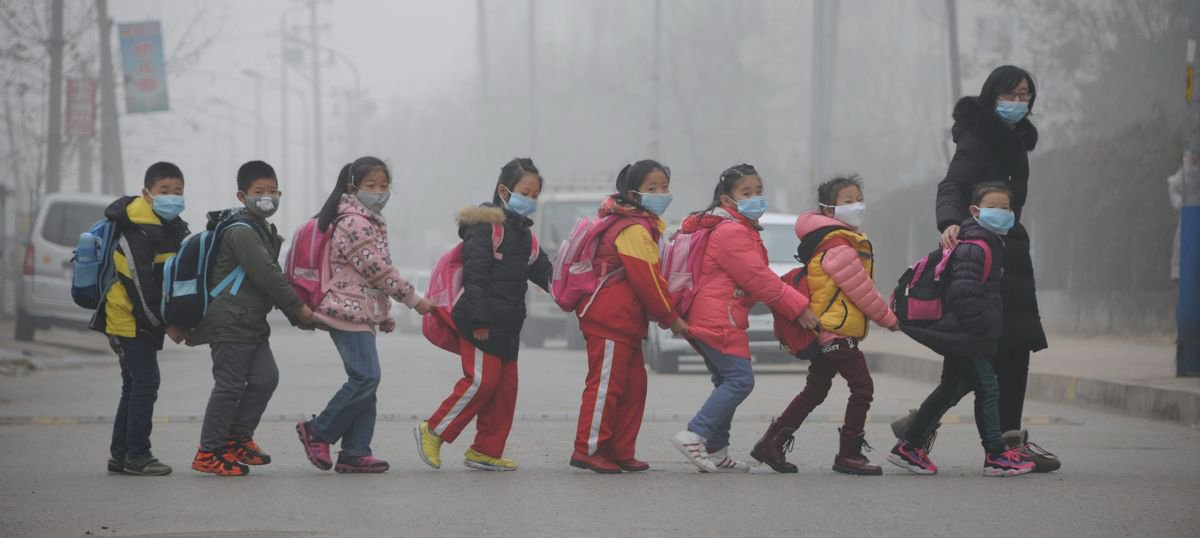mask: (972, 59, 1046, 134), (956, 172, 1035, 237), (808, 167, 882, 234), (607, 151, 679, 214), (329, 153, 406, 211), (712, 155, 774, 226), (487, 149, 547, 219), (232, 155, 288, 218), (137, 158, 187, 218)
